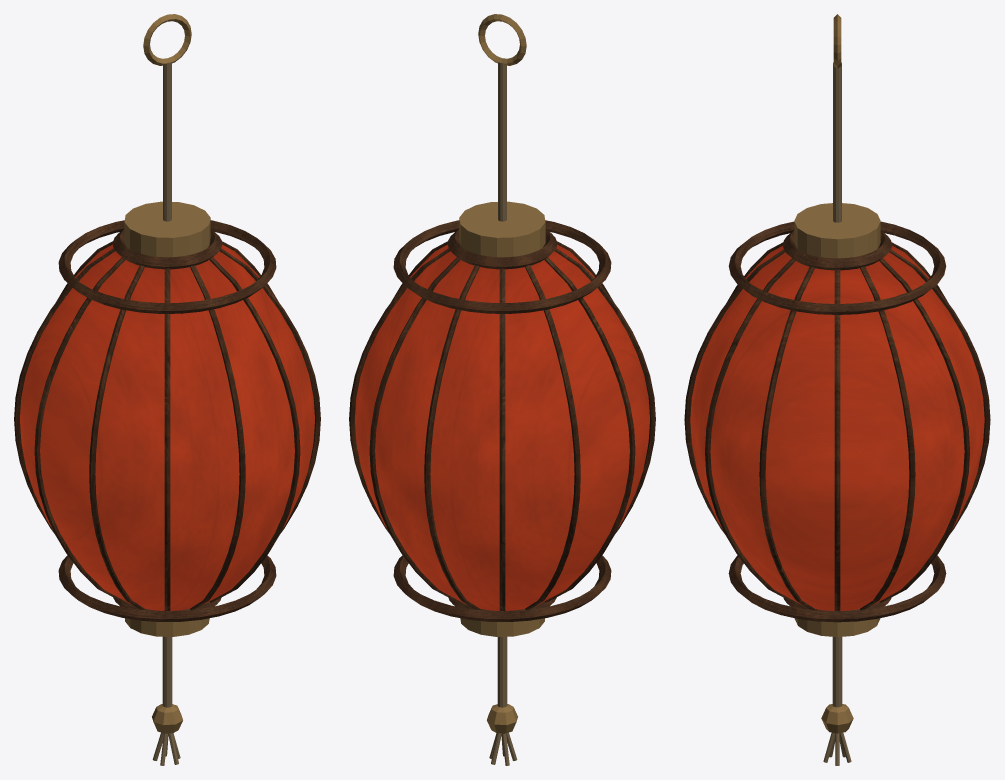
File: lantern_surface_module.glb
The picture shows the model from 3 angles, left to right: view 1: azimuth 30°, elevation 25°; view 2: azimuth 150°, elevation 25°; view 3: azimuth 270°, elevation 25°; orthographic projection.
Parts seen in each view (by area): view 1: LanternSurface_Paper, LanternSurface_Wood, LanternSurface_Bronze, LanternSurface_Rope; view 2: LanternSurface_Paper, LanternSurface_Wood, LanternSurface_Bronze, LanternSurface_Rope; view 3: LanternSurface_Paper, LanternSurface_Wood, LanternSurface_Bronze, LanternSurface_Rope.
Part boxes in pixels (left/top/right/bottom): LanternSurface_Paper: left=20, top=244, right=314, bottom=610; LanternSurface_Wood: left=14, top=220, right=320, bottom=621; LanternSurface_Bronze: left=124, top=14, right=210, bottom=733; LanternSurface_Rope: left=152, top=62, right=180, bottom=765; LanternSurface_Paper: left=355, top=244, right=649, bottom=610; LanternSurface_Wood: left=349, top=220, right=655, bottom=621; LanternSurface_Bronze: left=459, top=14, right=545, bottom=733; LanternSurface_Rope: left=489, top=62, right=517, bottom=765; LanternSurface_Paper: left=690, top=246, right=984, bottom=610; LanternSurface_Wood: left=684, top=221, right=990, bottom=622; LanternSurface_Bronze: left=794, top=14, right=880, bottom=733; LanternSurface_Rope: left=823, top=62, right=851, bottom=765.
Bounding box in the file's own units: 0.5092 × 1.37 × 0.5092.
Materials: 4 (2 with a texture image).
